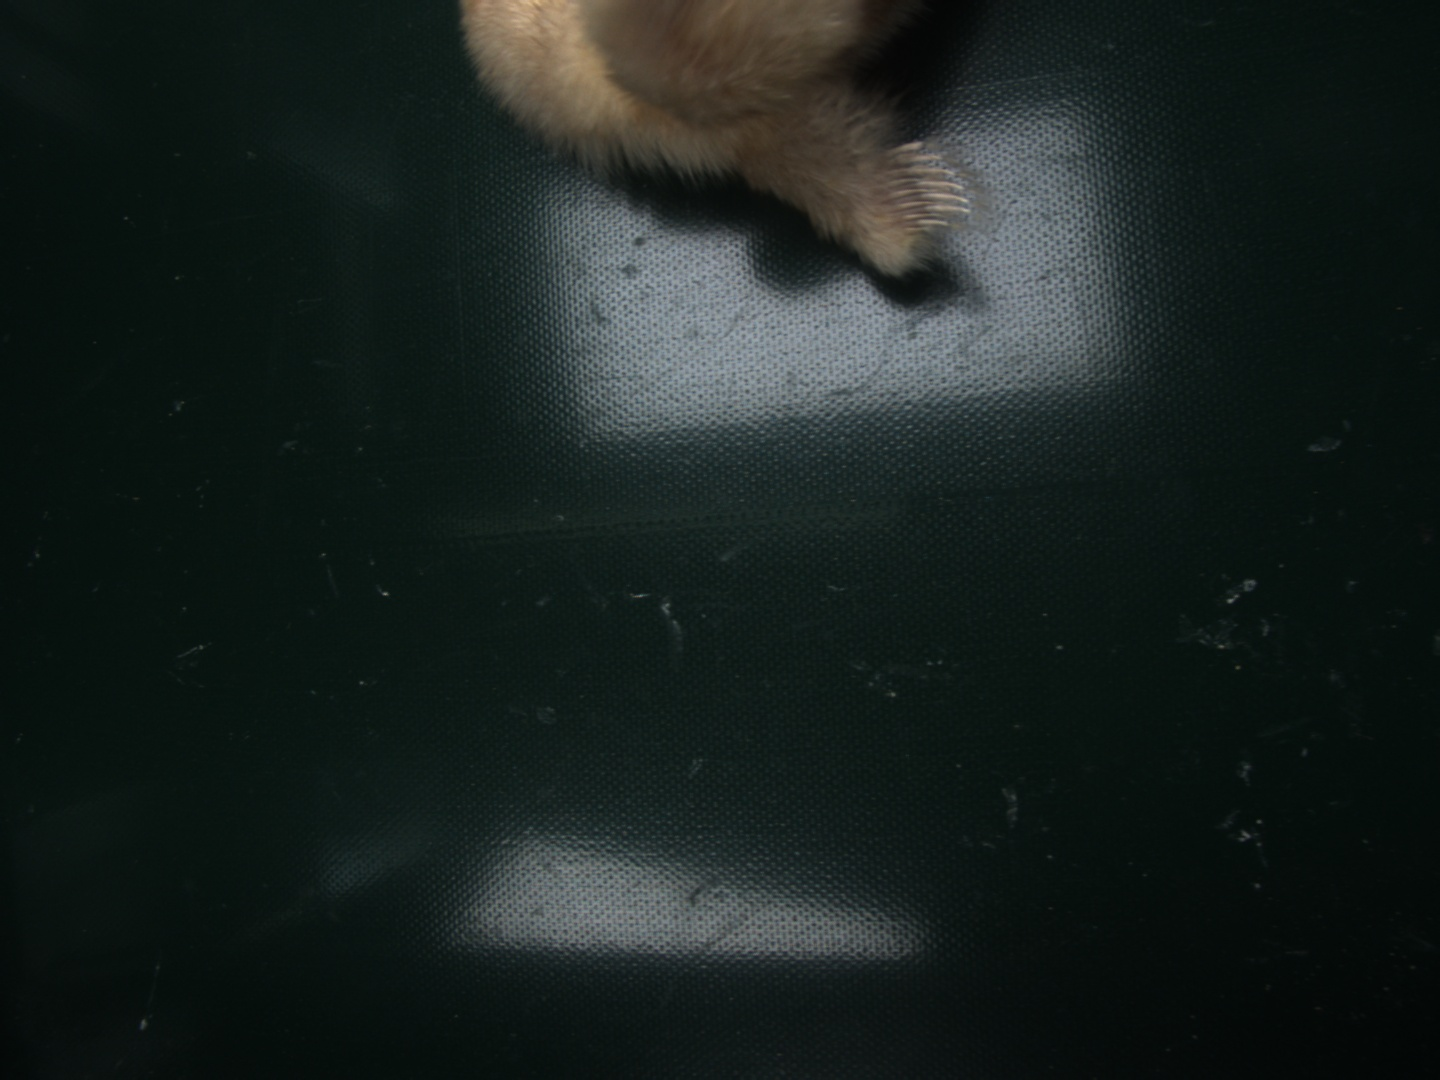female: (874, 142, 972, 233)
